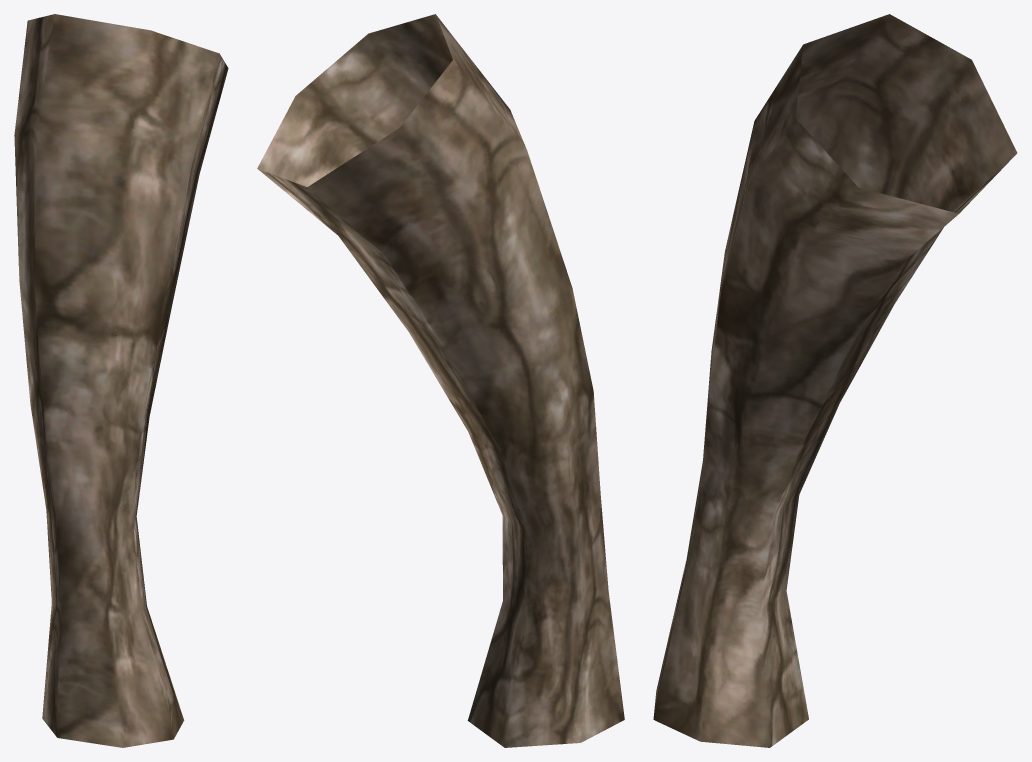
The model's file is EKH_JAIL_PS_JA_GR_CYLINDER18.fbx.
3 renders of one model, left to right at view 1: azimuth 30°, elevation 25°; view 2: azimuth 150°, elevation 25°; view 3: azimuth 270°, elevation 25°, orthographic. The views are drawn at different scales.
Visible parts, largest first — view 1: EKH_JAIL_PS_JA_GR_CYLINDER18; view 2: EKH_JAIL_PS_JA_GR_CYLINDER18; view 3: EKH_JAIL_PS_JA_GR_CYLINDER18.
Boxes of the visible parts, box(x1,y1,x2,y2) form: EKH_JAIL_PS_JA_GR_CYLINDER18: box(14, 14, 228, 747); EKH_JAIL_PS_JA_GR_CYLINDER18: box(257, 14, 624, 747); EKH_JAIL_PS_JA_GR_CYLINDER18: box(653, 14, 1017, 747).
Size of the model in its own units: 30163 by 80077 by 37110.
1 material, 1 textured.
